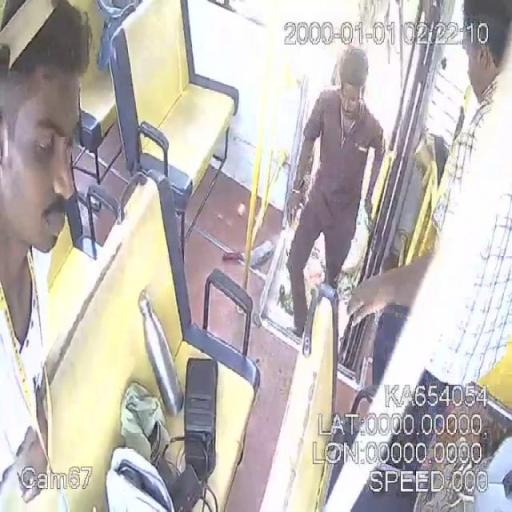persona: (340, 1, 512, 510), (0, 1, 94, 510), (284, 44, 386, 338)
